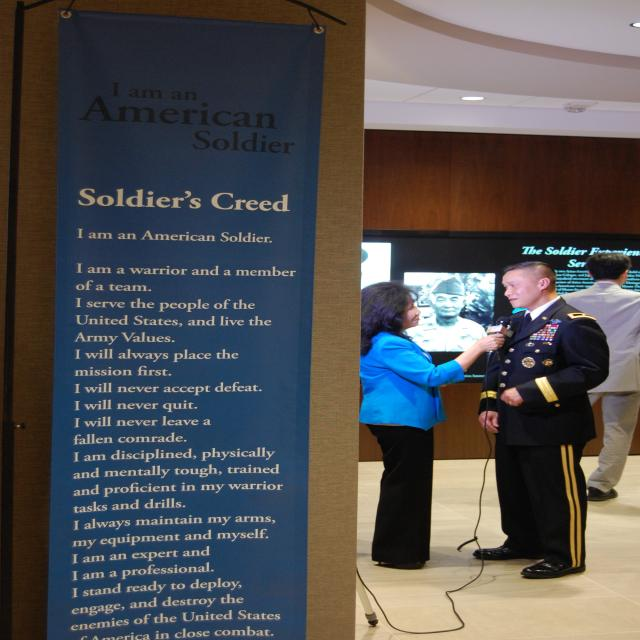body: (467, 258, 615, 582), (359, 280, 516, 572), (557, 251, 640, 502), (400, 268, 496, 356)
